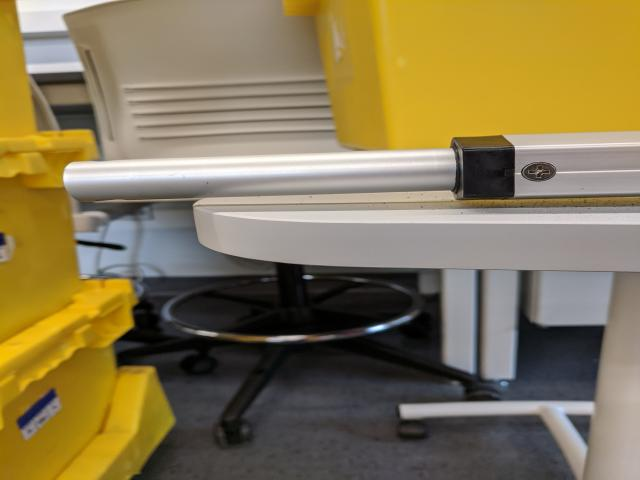CRS: (521, 160, 560, 183)
